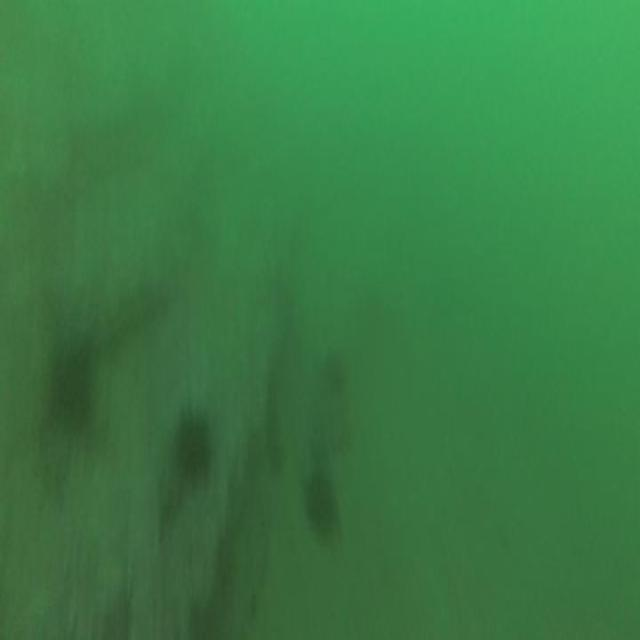echinus: (52, 340, 92, 439), (172, 403, 212, 496), (304, 464, 337, 539)
